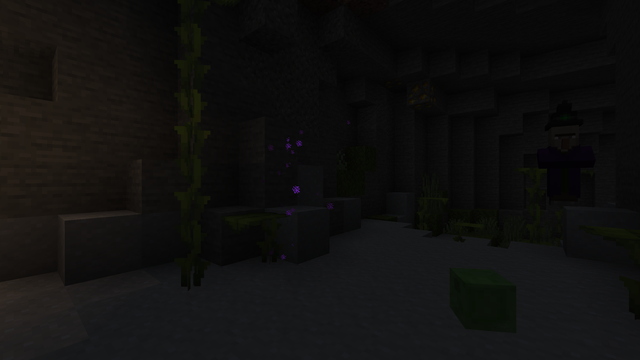slimes: (449, 263, 508, 337)
sorcieres: (545, 120, 581, 206)
